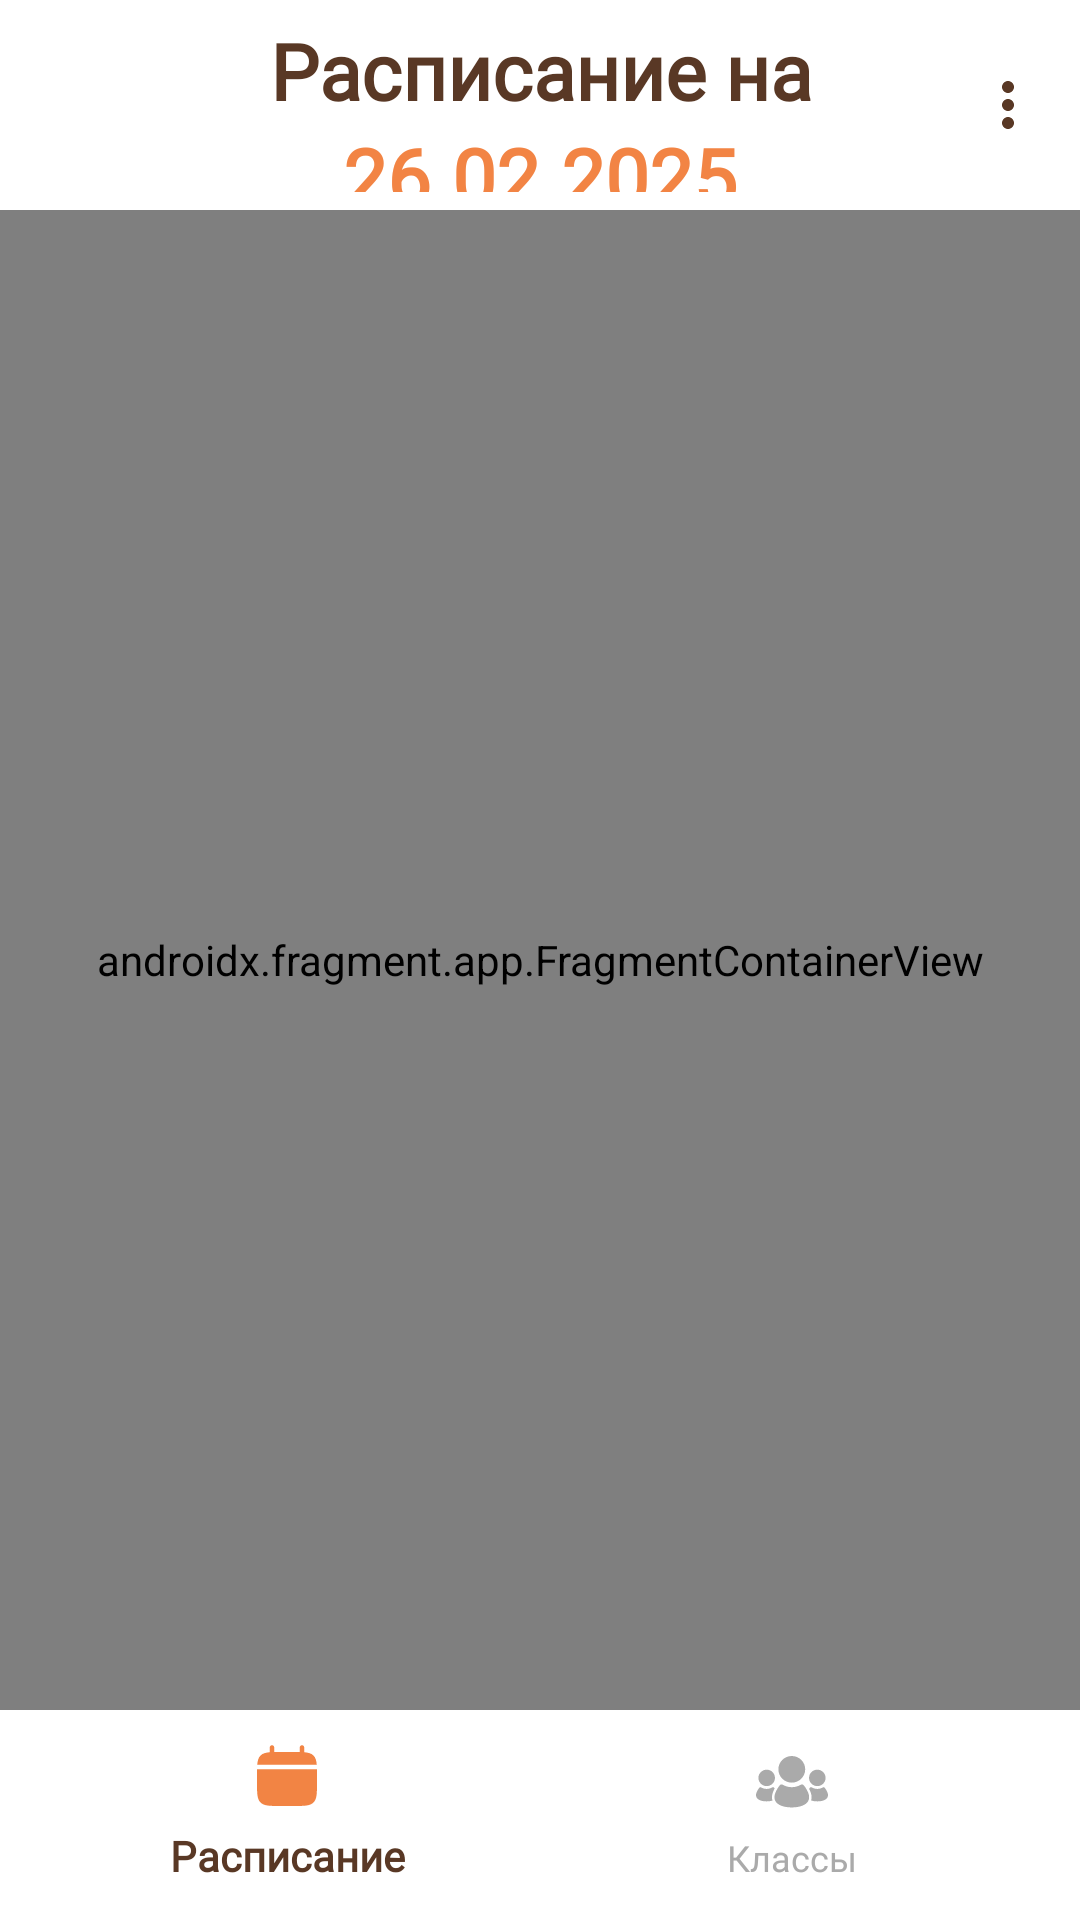

Locate icon controls on the screen. Image size 1080 × 1920, boxes as [x1,y1,x2,y2].
more vert: [1002,81,1014,129]
